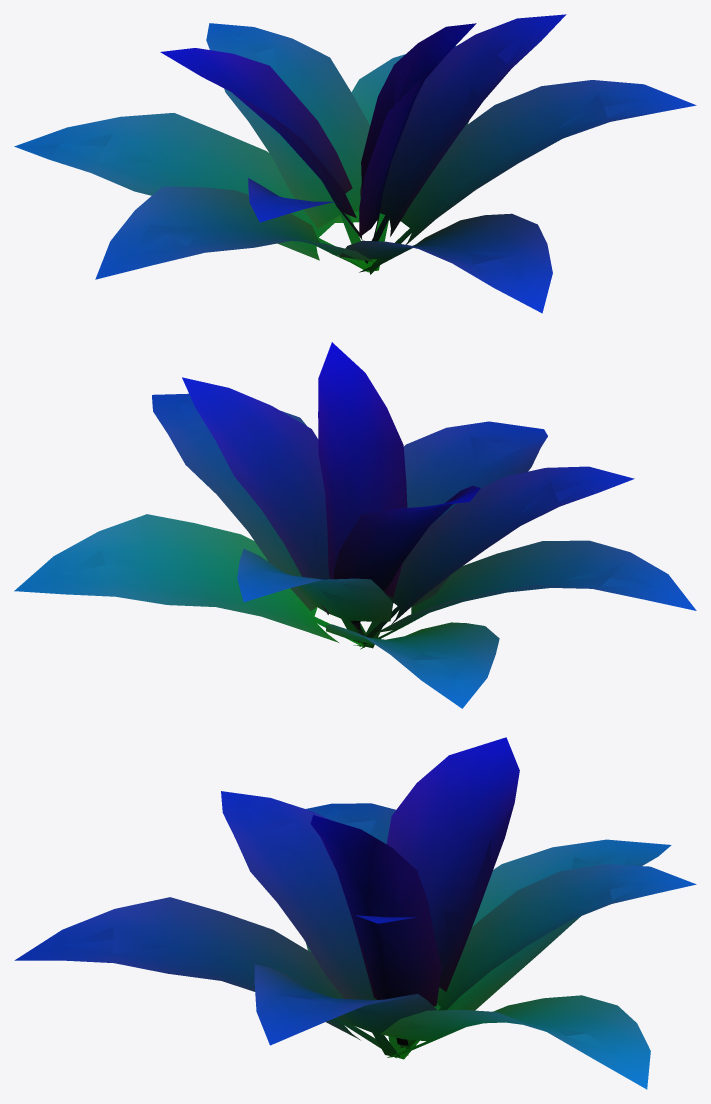
Rendered from plant_swordfern.fbx.
3 renders of one model, top to bottom at view 1: azimuth 30°, elevation 25°; view 2: azimuth 150°, elevation 25°; view 3: azimuth 270°, elevation 25°, orthographic. The views are drawn at different scales.
Visible parts, largest first — view 1: fern_lod_0; view 2: fern_lod_0; view 3: fern_lod_0.
Part boxes in pixels (<box>): fern_lod_0: <box>14,14,696,313</box>; fern_lod_0: <box>14,342,696,708</box>; fern_lod_0: <box>14,737,696,1089</box>.
Size of what is drawn, in the model's own units: 2.5 by 2.39 by 1.08.
